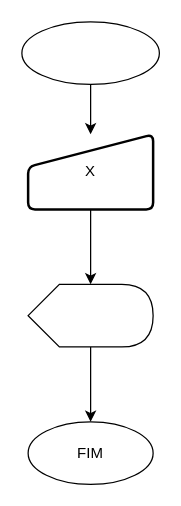
This 181x506 diagram has some shape labels left out. Each missing label, with the centre of its shape:
"INICIO" goes at [90,52].
"X^2 (ou X*X)" goes at [90,315].
